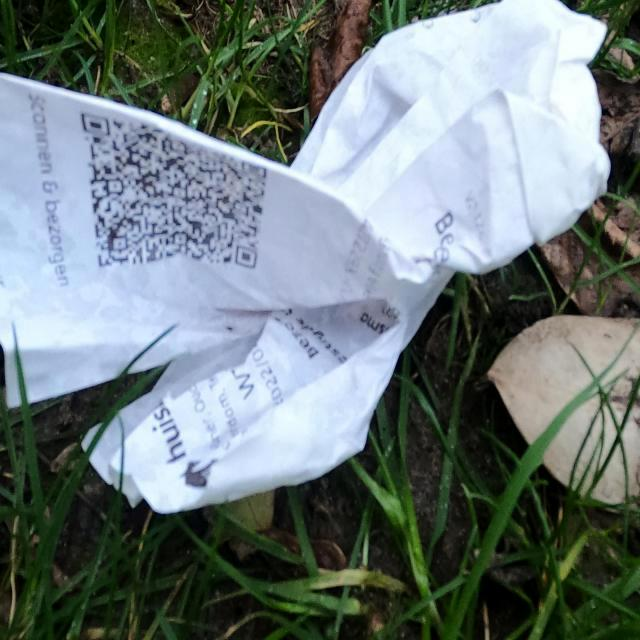Paper: (0, 0, 610, 520)
